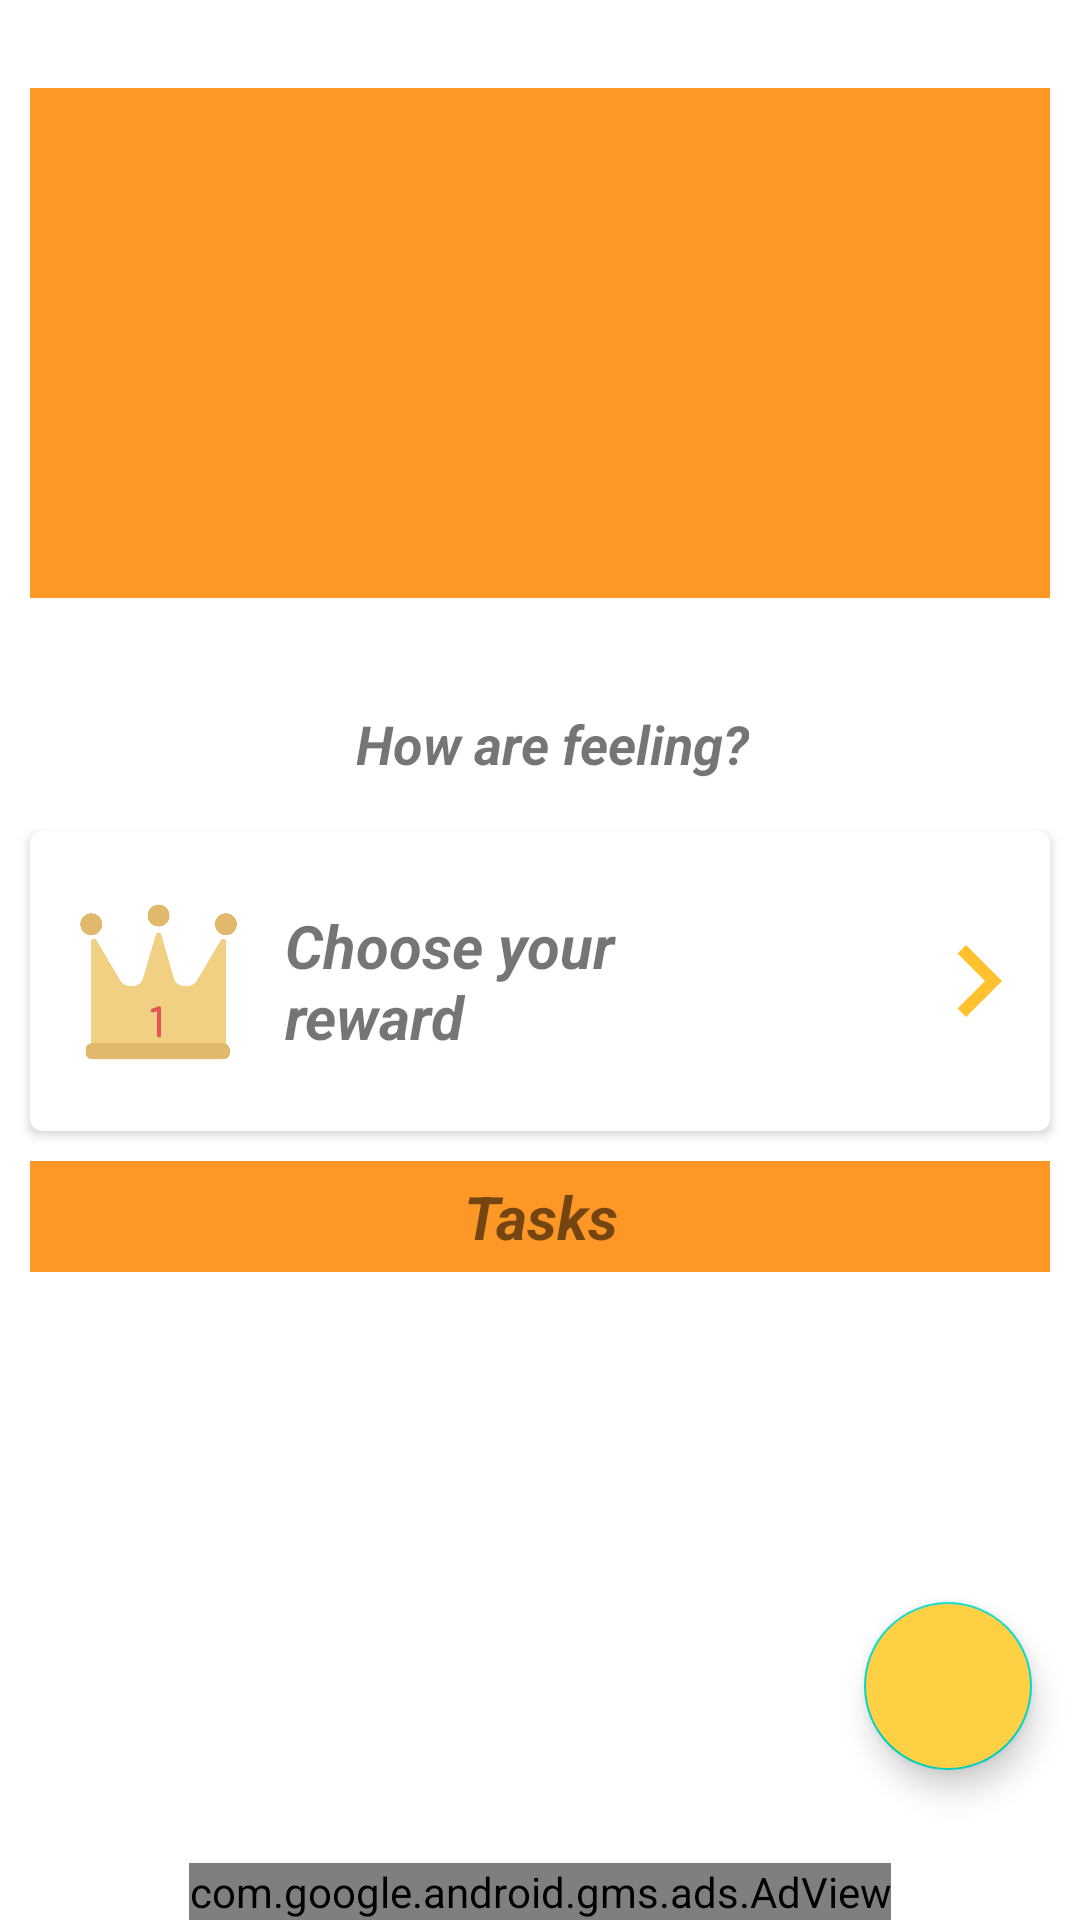

Where to tap for icons on this 1080px×1920px app screen, as (x=x, y=y):
navigate next: (x=979, y=981)
